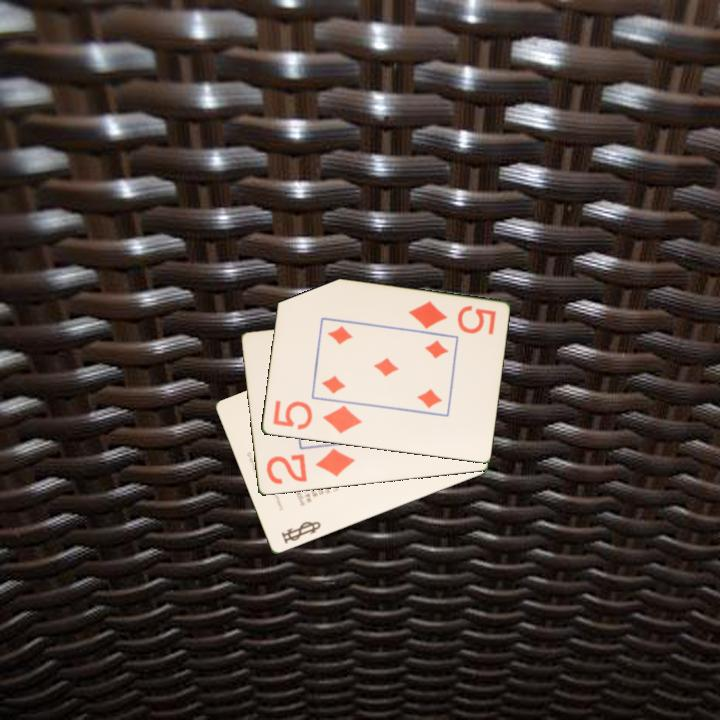2d: (262, 445, 357, 487)
5d: (269, 397, 365, 437), (405, 298, 499, 338)
JK: (277, 518, 324, 547)
